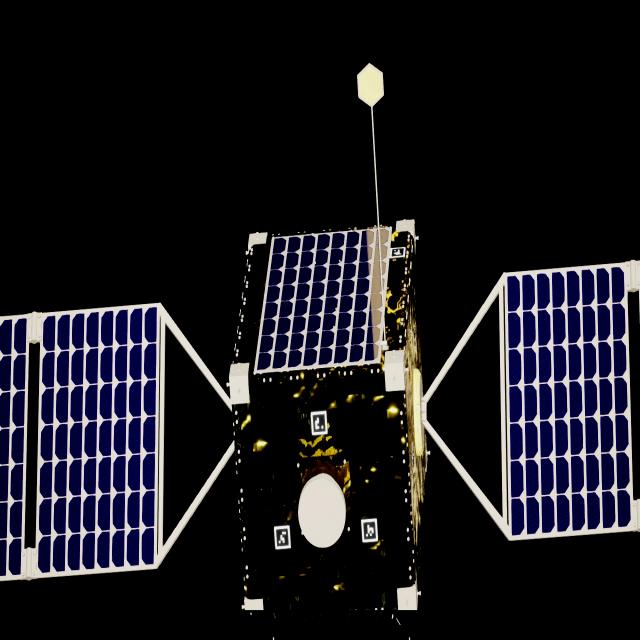medium_debris: (0, 225, 640, 640)
